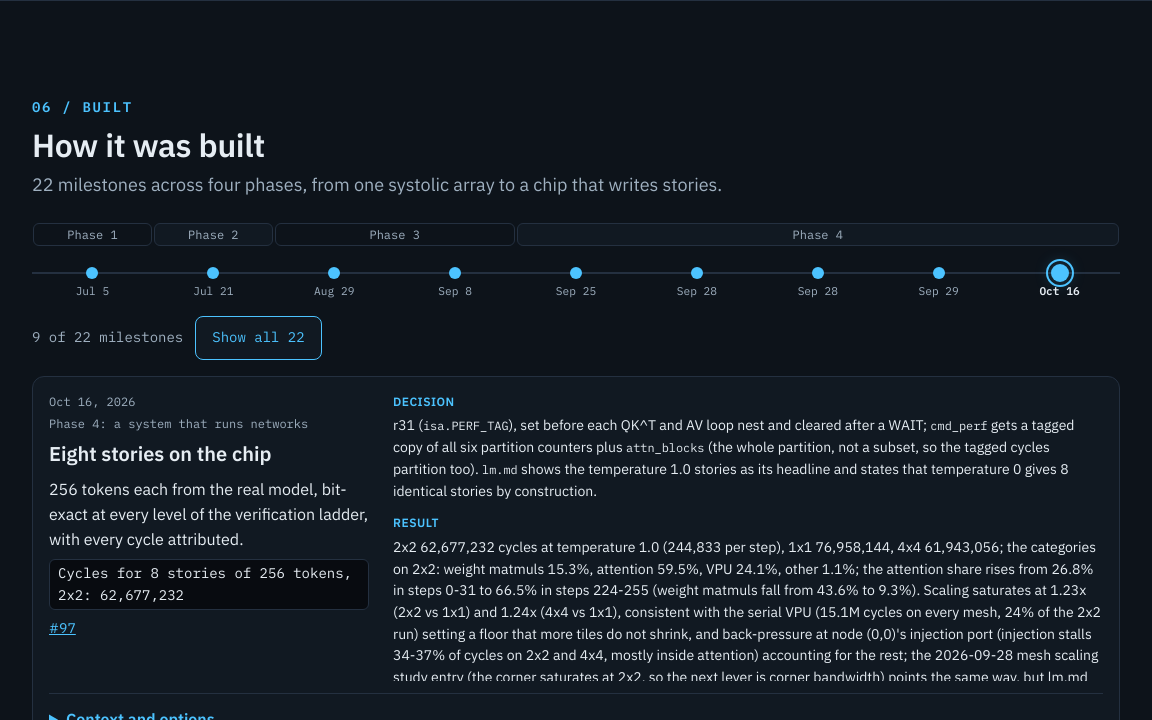
BuiltSection › shows all 22 milestones from the Show all chip and keeps the selection
The width and height of the screenshot is (1152, 720).
Expected: the heading "Decision" is shown, [393,394,455,409]
Click the button "Show all 22": [258, 338] box [195,316,322,360]
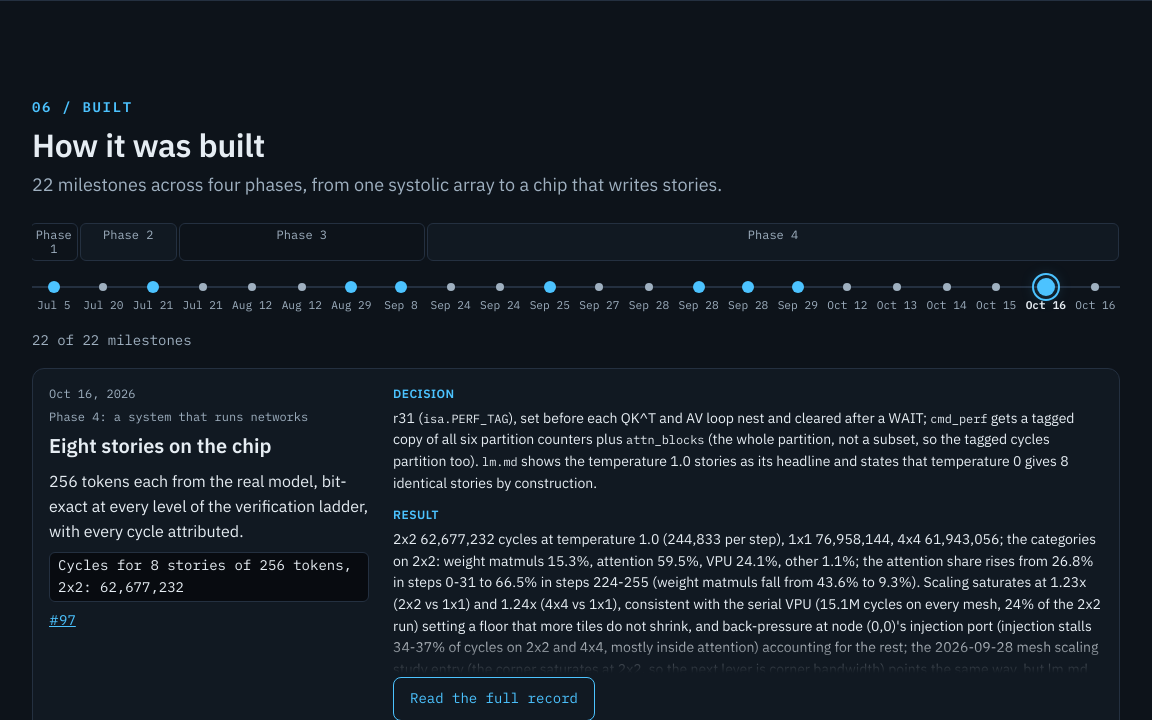
Expected: the button "Show all" is gone
